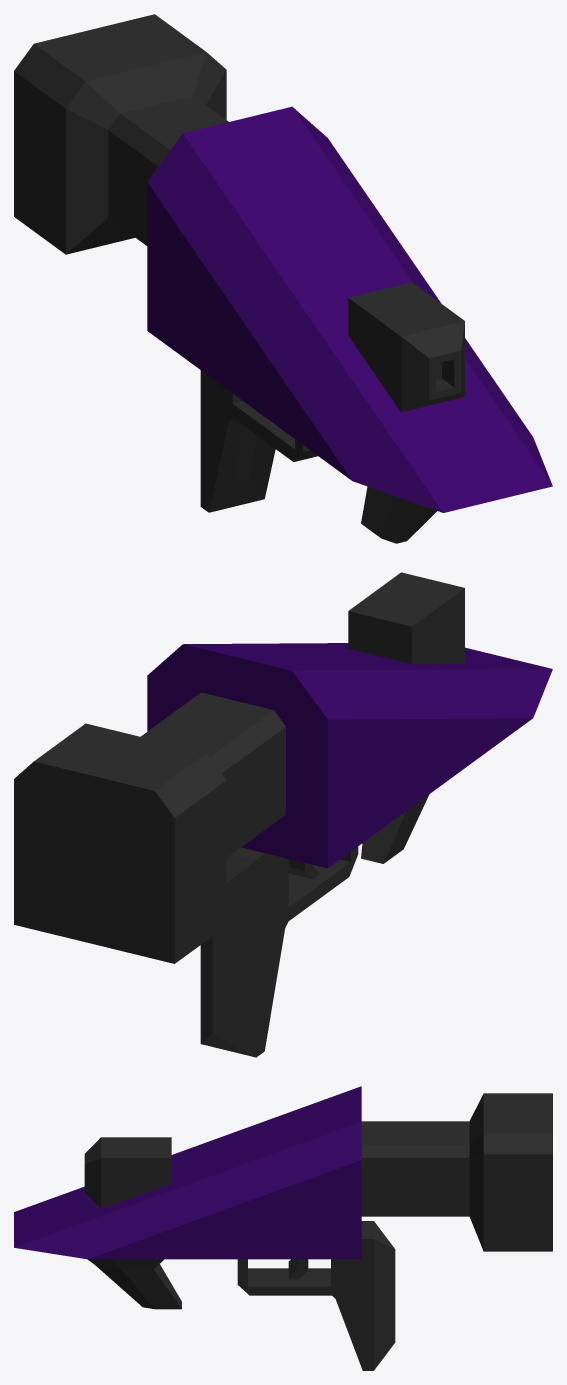
Rendered from theodorus.glb.
3 renders of one model, top to bottom at view 1: azimuth 30°, elevation 25°; view 2: azimuth 150°, elevation 25°; view 3: azimuth 270°, elevation 25°, orthographic. The views are drawn at different scales.
Parts seen in each view (by area): view 1: Cube; view 2: Cube; view 3: Cube.
Part boxes in pixels (bbox=[...]): Cube: bbox=[14, 14, 552, 543]; Cube: bbox=[14, 572, 552, 1057]; Cube: bbox=[14, 1086, 552, 1370].
Size of the model in its own units: 0.4 by 0.8183 by 1.55.
